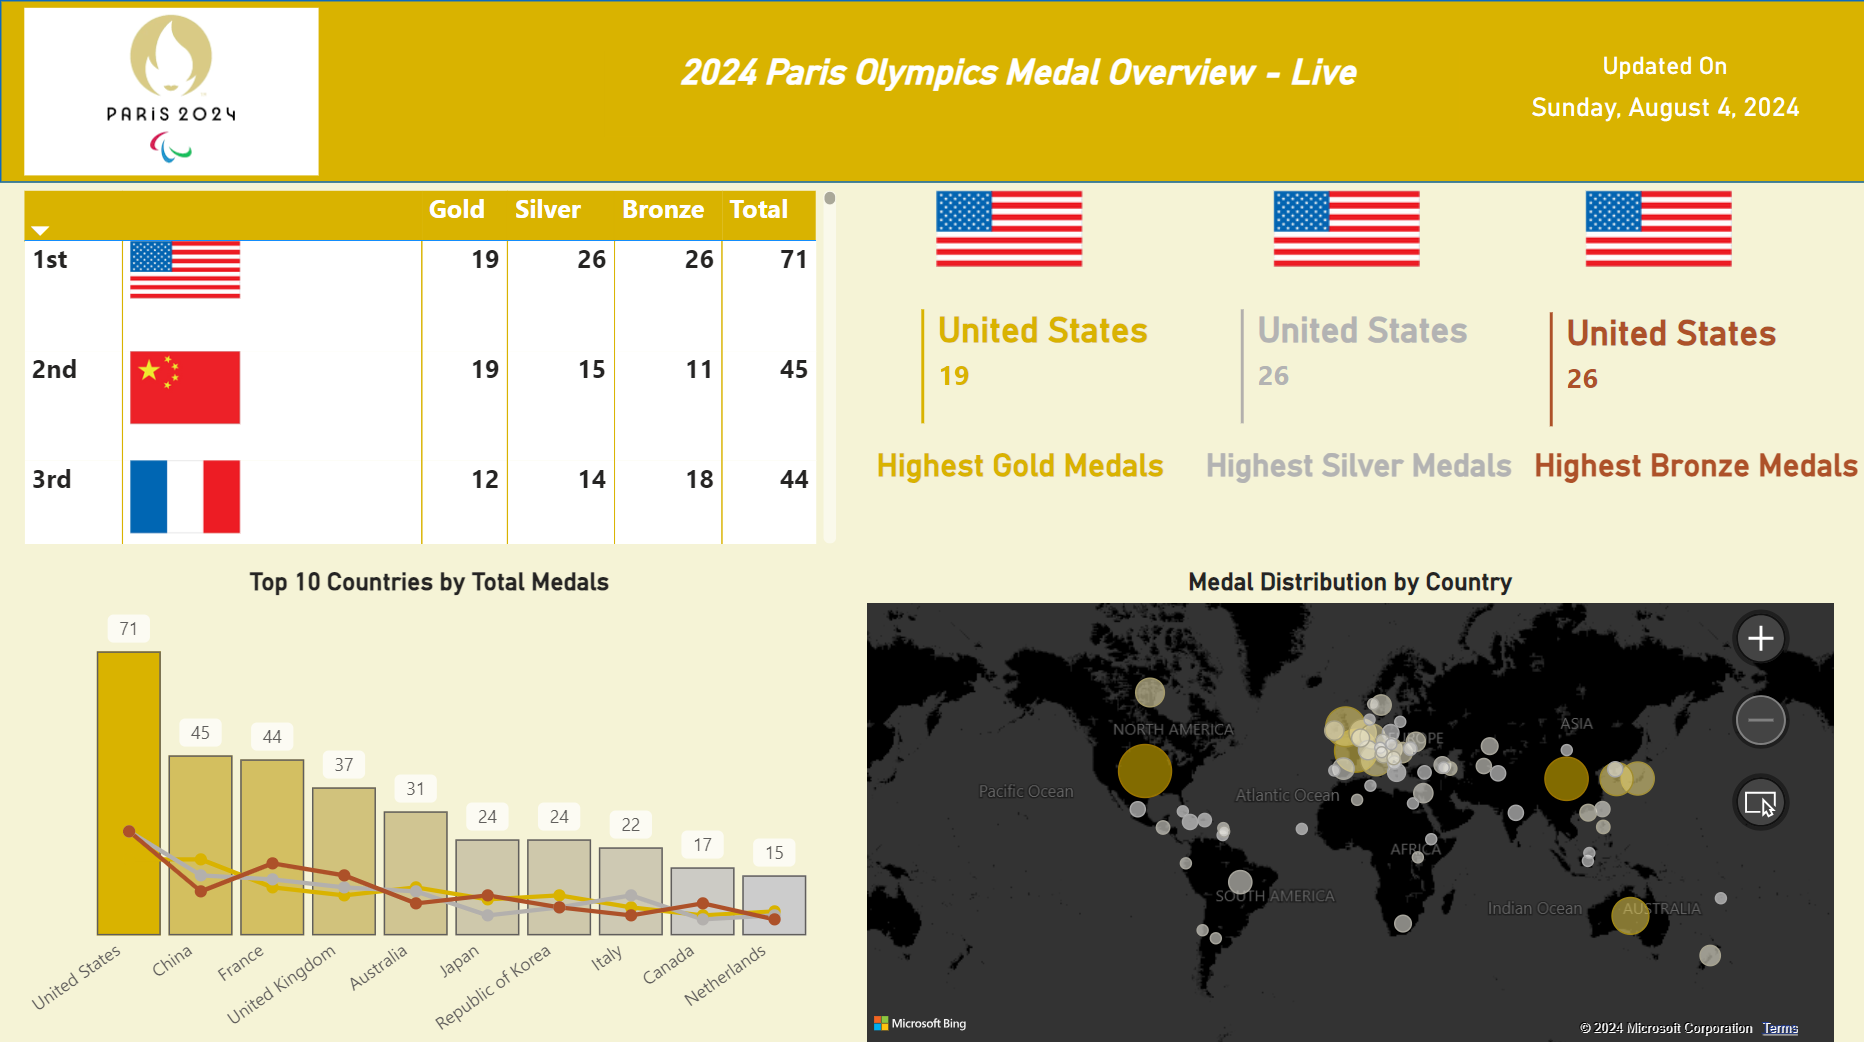

This screenshot's page, from the dashboard's own definition file:
{"tool":"powerbi","page":{"name":"Overview","canvas":[1280,720],"ordinal":0},"visuals":[{"type":"shape","box":[0,0,1278.3,125],"z":0},{"type":"map","title":"Medal Distribution by Country","fields":{"Category":["Table 1.Country"],"Size":["Sum(Table 1.Total)"]},"box":[588.3,388.3,671.7,331.7],"z":1000},{"type":"multiRowCard","title":"Country with Most Golds","fields":{"Values":["flags_iso.URL"]},"box":[635.6,125.4,121.7,100],"z":2000},{"type":"multiRowCard","title":"Country with Most Golds","fields":{"Values":["flags_iso.URL"]},"box":[1079.6,125.4,121.7,100],"z":3000},{"type":"multiRowCard","title":"Country with Most Golds","fields":{"Values":["flags_iso.URL"]},"box":[866.3,125.4,121.7,100],"z":4000},{"type":"multiRowCard","fields":{"Values":["Table 1.Country","Sum(Table 1.Gold)"]},"box":[625.4,206.7,177,91.9],"z":5000},{"type":"multiRowCard","fields":{"Values":["Table 1.Country","Sum(Table 1.Silver)"]},"box":[843.3,206.7,171.7,91.7],"z":6000},{"type":"multiRowCard","fields":{"Values":["Table 1.Country","Sum(Table 1.Bronze)"]},"box":[1055,208.3,171.7,91.7],"z":7000},{"type":"textbox","title":"Highest Gold Medals","box":[593.5,305.7,210,31.7],"z":8000},{"type":"textbox","title":"Highest Silver Medals","box":[818.5,305.7,221.7,33.3],"z":9000},{"type":"textbox","title":"Highest Bronze Medals","box":[1040.1,305.7,240,33.3],"z":10000},{"type":"card","title":"Updated On","fields":{"Values":["flags_iso.Updated"]},"box":[998.3,35,281.7,56.7],"z":11000},{"type":"lineStackedColumnComboChart","title":"Top 10 Countries by Total Medals","fields":{"Category":["Table 1.Country"],"Y":["Sum(Table 1.Total)"],"Y2":["Sum(Table 1.Gold)","Sum(Table 1.Silver)","Sum(Table 1.Bronze)"]},"box":[11.7,388.3,565,331.7],"z":12000},{"type":"image","box":[11.7,0,211.7,125],"z":13000},{"type":"textbox","title":"2024 Paris Olympics Medal Overview - Live","box":[413.3,35,565,58.3],"z":14000},{"type":"tableEx","title":"Medal Tally","fields":{"Values":["Table 1.Placing","flags_iso.URL","Sum(Table 1.Gold)","Sum(Table 1.Silver)","Sum(Table 1.Bronze)","Sum(Table 1.Total)"]},"box":[15,125,561.7,246.7],"z":15000}]}

Visuals, with their boxes in screenshot pixels (x1, y1, x2, y2), scaled from the page's 1280x720 canvas onto the 1864x1042 screenshot:
shape: 0:0:1862:181
"Medal Distribution by Country" map: 857:562:1835:1041
"Country with Most Golds" multiRowCard: 926:181:1103:326
"Country with Most Golds" multiRowCard: 1572:181:1749:326
"Country with Most Golds" multiRowCard: 1262:181:1439:326
multiRowCard - Table 1.Country x Sum(Table 1.Gold): 911:299:1168:432
multiRowCard - Table 1.Country x Sum(Table 1.Silver): 1228:299:1478:432
multiRowCard - Table 1.Country x Sum(Table 1.Bronze): 1536:301:1786:434
"Highest Gold Medals" textbox: 864:442:1170:488
"Highest Silver Medals" textbox: 1192:442:1515:491
"Highest Bronze Medals" textbox: 1515:442:1863:491
"Updated On" card: 1454:51:1863:133
"Top 10 Countries by Total Medals" lineStackedColumnComboChart: 17:562:840:1041
image: 17:0:325:181
"2024 Paris Olympics Medal Overview - Live" textbox: 602:51:1425:135
"Medal Tally" tableEx: 22:181:840:538
